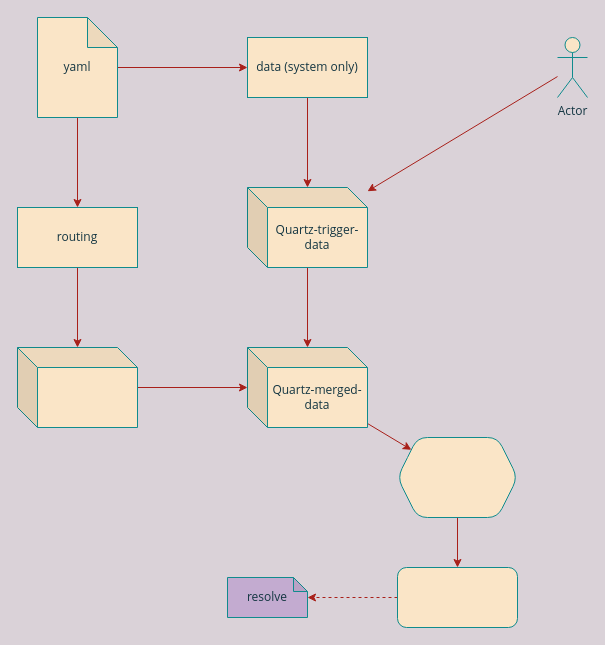
Some shapes in this 605 by 645 pixel diagram are drawn without their labels. Each missing label, with the box of its shape:
Executor: (396, 436, 518, 518)
Implementation: (396, 566, 518, 628)
Quartz-job-data: (16, 346, 138, 428)
